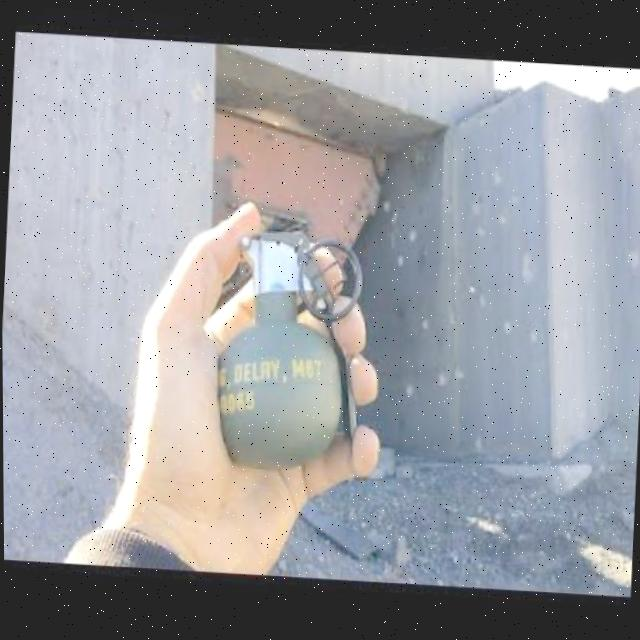grenade: (213, 192, 377, 484)
